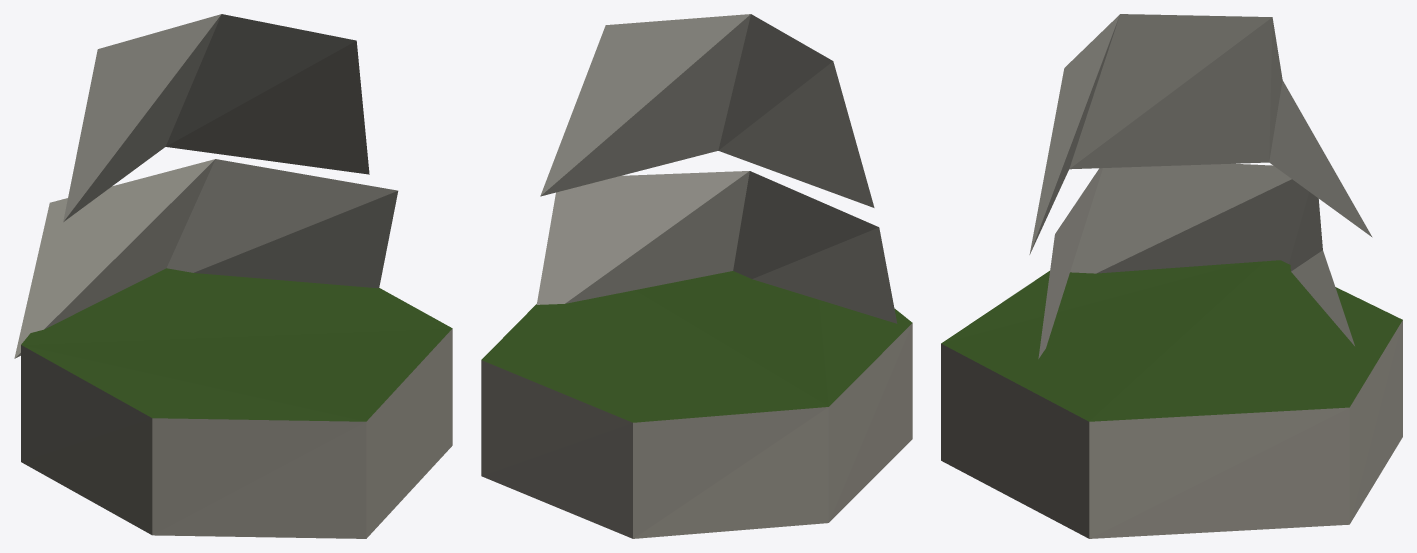
Rendered from rock.stub__crusted__autumn.glb.
3 renders of one model, left to right at view 1: azimuth 30°, elevation 25°; view 2: azimuth 150°, elevation 25°; view 3: azimuth 270°, elevation 25°, orthographic.
Visible parts, largest first — view 1: rock.stub; view 2: rock.stub; view 3: rock.stub.
Part boxes in pixels (<box>): rock.stub: <box>14,14,452,538</box>; rock.stub: <box>481,14,912,538</box>; rock.stub: <box>941,14,1402,538</box>.
Bounding box in the file's own units: 1.09 × 1.21 × 1.28.
